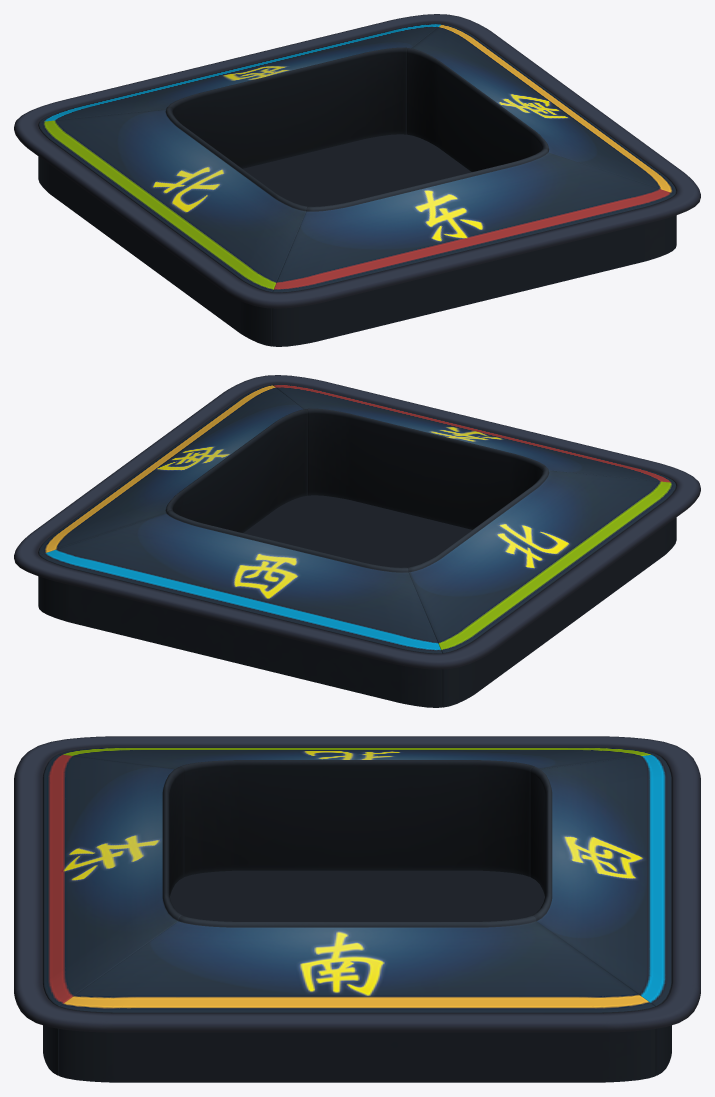
Rendered from EWSN.fbx.
The picture shows the model from 3 angles, top to bottom: view 1: azimuth 30°, elevation 25°; view 2: azimuth 150°, elevation 25°; view 3: azimuth 270°, elevation 25°; orthographic projection. The views are drawn at different scales.
Parts seen in each view (by area): view 1: North, Edge, West, South, East; view 2: South, Edge, West, North, East; view 3: East, Edge, West, South, North.
Part boxes in pixels (x1,y1,x2,y2): North: [272, 149, 675, 346]; Edge: [14, 14, 700, 308]; West: [38, 106, 307, 346]; South: [40, 23, 441, 168]; East: [407, 23, 676, 247]; South: [39, 510, 442, 707]; Edge: [14, 375, 700, 669]; West: [407, 467, 676, 707]; North: [273, 384, 674, 529]; East: [38, 384, 307, 608]; East: [59, 915, 655, 1082]; Edge: [14, 736, 700, 1032]; West: [59, 747, 655, 876]; South: [530, 754, 671, 1075]; North: [43, 754, 184, 1075].
Size of the model in its own units: 1.16 by 0.2032 by 1.16.
